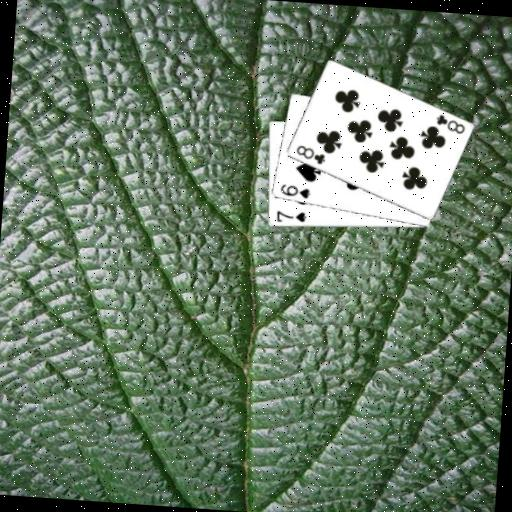6S: (277, 181, 313, 201)
7S: (273, 208, 308, 226)
8C: (431, 111, 467, 136), (292, 142, 327, 166)
